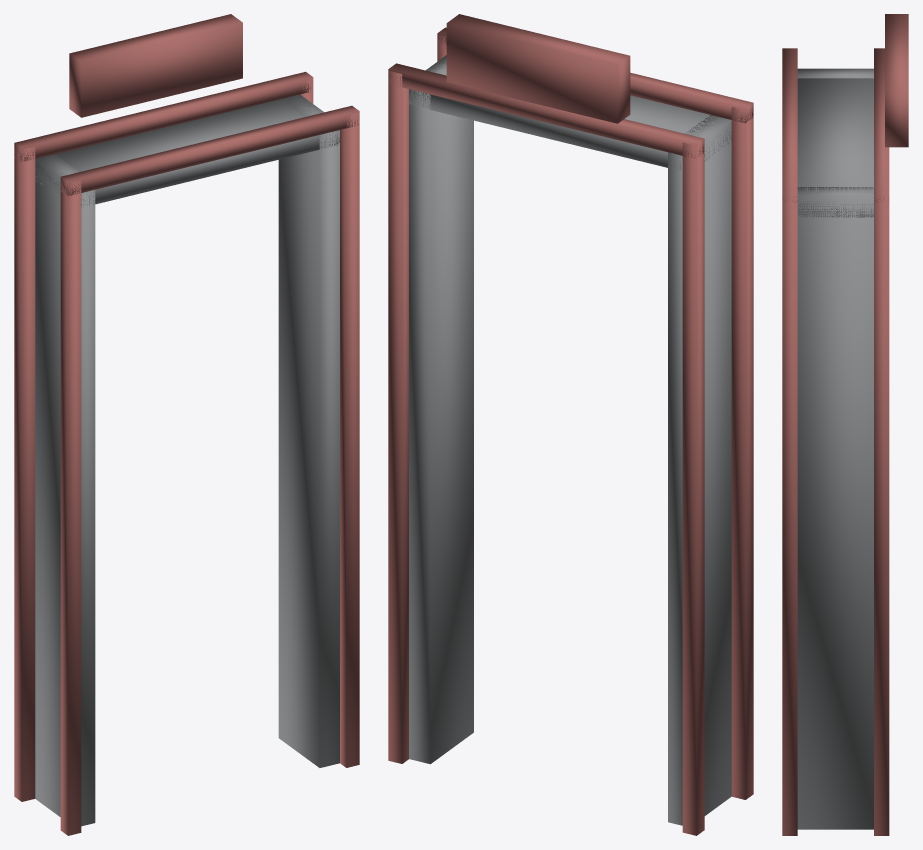
Rendered from doorway_emergency_exit_w76_h200_d24.glb.
3 renders of one model, left to right at view 1: azimuth 30°, elevation 25°; view 2: azimuth 150°, elevation 25°; view 3: azimuth 270°, elevation 25°, orthographic. The views are drawn at different scales.
Visible parts, largest first — view 1: world; view 2: world; view 3: world.
Part boxes in pixels (box(x1,y1,x2,y2)): world: box(14, 14, 359, 835); world: box(388, 14, 753, 835); world: box(782, 14, 908, 835).
Size of the model in its own units: 0.9868 by 2.33 by 0.3733.
